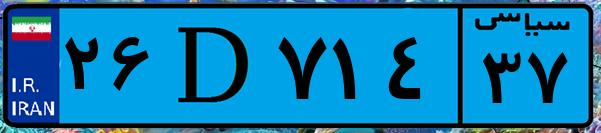1: (330, 28, 385, 110)
2: (57, 26, 110, 100)
3: (475, 38, 525, 113)
4: (385, 28, 445, 110)
6: (110, 28, 158, 98)
7: (270, 28, 330, 110), (525, 38, 570, 115)
D: (158, 12, 270, 120)
